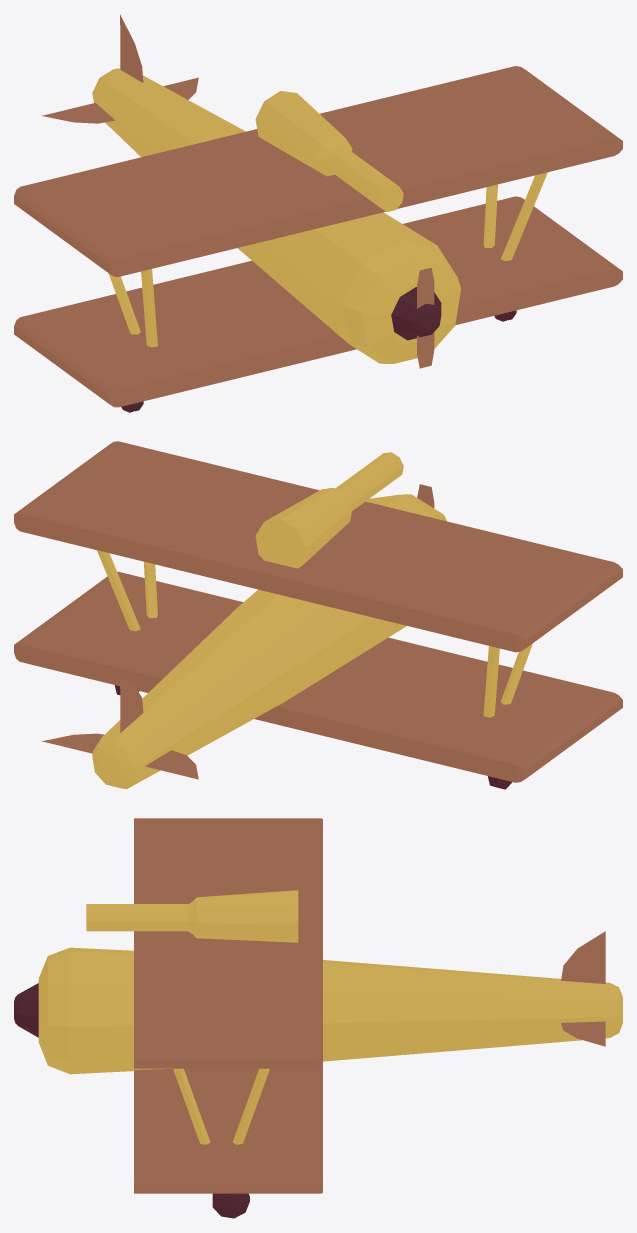
File: avion_with_join.glb
3 renders of one model, top to bottom at view 1: azimuth 30°, elevation 25°; view 2: azimuth 150°, elevation 25°; view 3: azimuth 270°, elevation 25°, orthographic. The views are drawn at different scales.
Parts seen in each view (by area): view 1: Aile_Basse; view 2: Aile_Basse; view 3: Aile_Basse.
Boxes of the visible parts, x1,y1,x2,y2 form: Aile_Basse: [14, 14, 622, 412]; Aile_Basse: [14, 441, 622, 789]; Aile_Basse: [14, 818, 622, 1218].
Bounding box in the file's own units: 6 × 2.77 × 6.45.
